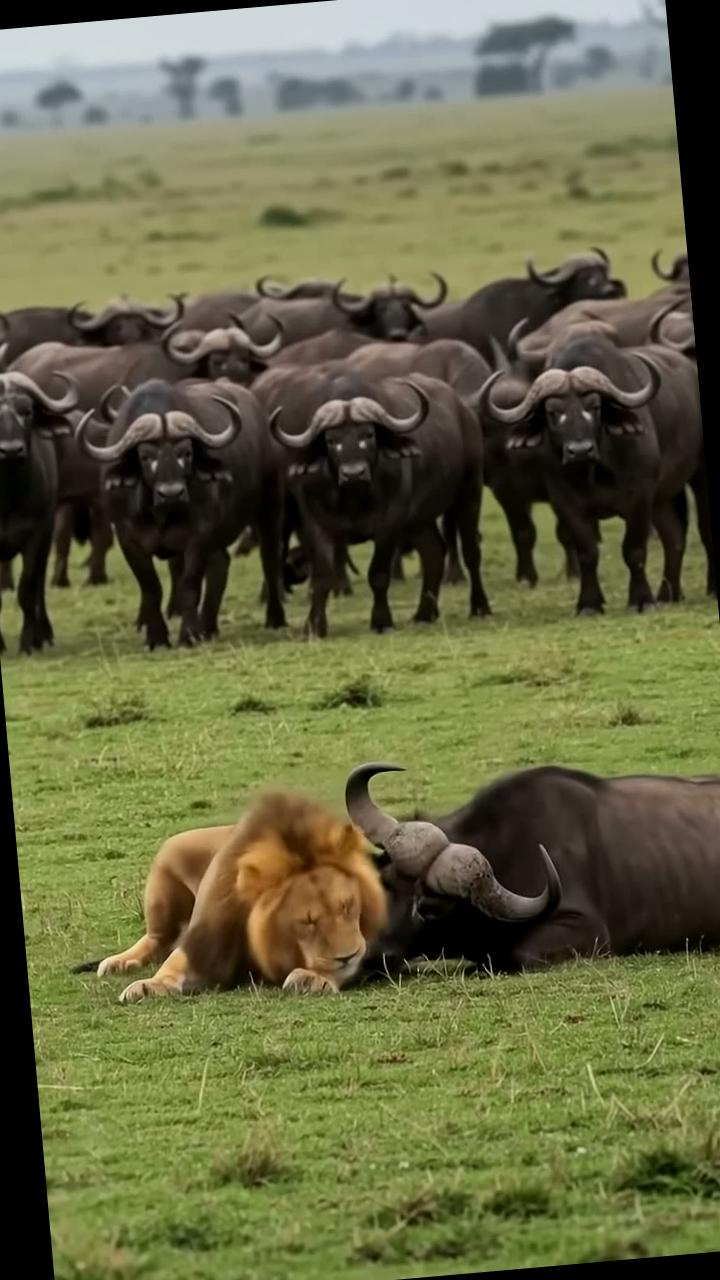Buffalo: (0, 218, 718, 664), (350, 700, 720, 1037)
lions: (34, 766, 371, 1092)
